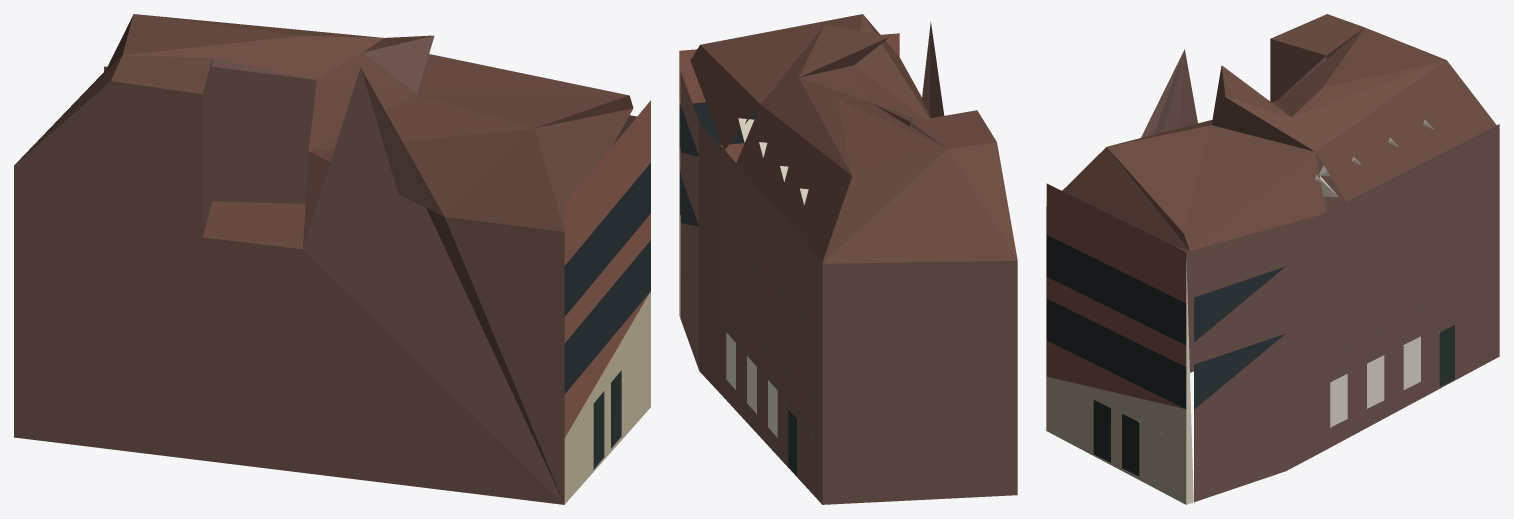
Rendered from bitterzoet.lod2.glb.
3 views of the same model, side by side, from view 1: azimuth 30°, elevation 25°; view 2: azimuth 150°, elevation 25°; view 3: azimuth 270°, elevation 25° (orthographic). The views are drawn at different scales.
Parts seen in each view (by area): view 1: lod2; view 2: lod2; view 3: lod2.
Part boxes in pixels (x1=…): lod2: x1=14, y1=14, x2=650, y2=504; lod2: x1=679, y1=14, x2=1017, y2=504; lod2: x1=1046, y1=14, x2=1499, y2=504.
Bounding box in the file's own units: 26.42 × 20.2 × 24.45.
